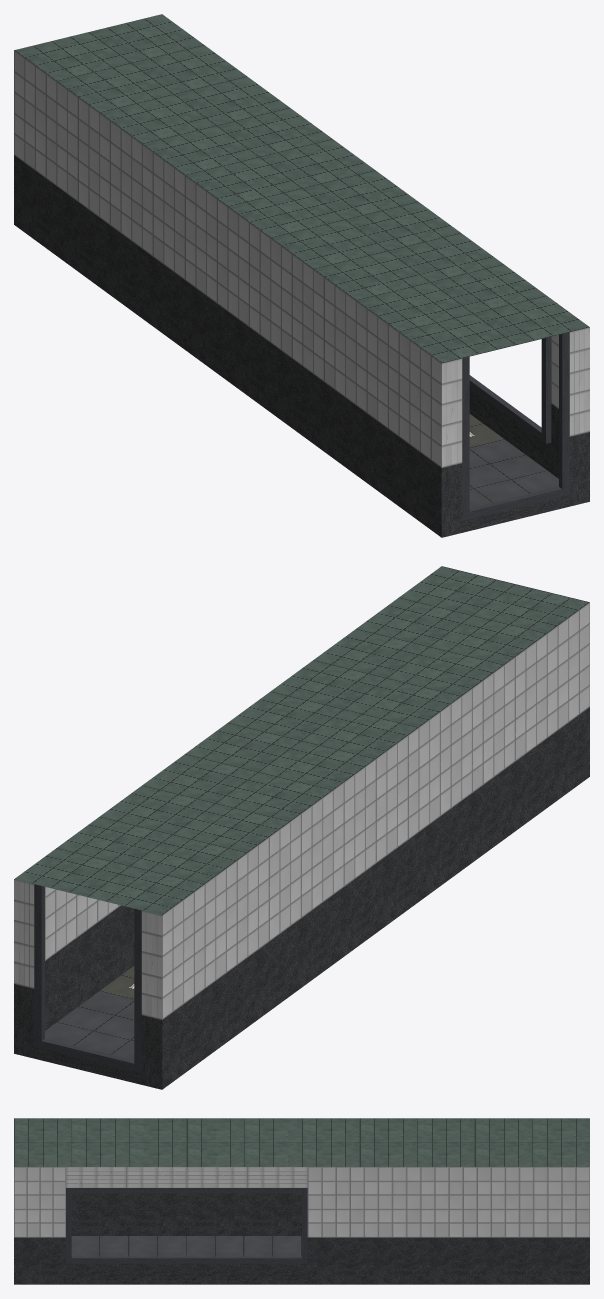
Rendered from hall.obj.
3 views of the same model, one above another, from view 1: azimuth 30°, elevation 25°; view 2: azimuth 150°, elevation 25°; view 3: azimuth 270°, elevation 25° (orthographic). The views are drawn at different scales.
Bounding box in the file's own units: 160 × 180 × 800.
Materials: 6 (6 with a texture image).
